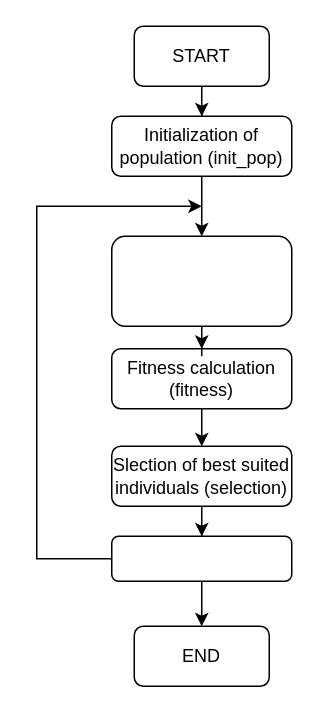
Some shapes in this 318 by 713 pixel diagram are drawn without their labels. Each missing label, with the box of its shape:
Check stop condition: (110, 535, 292, 581)
Crossing and Mutation (cross_pop and mutation): (110, 235, 292, 326)
